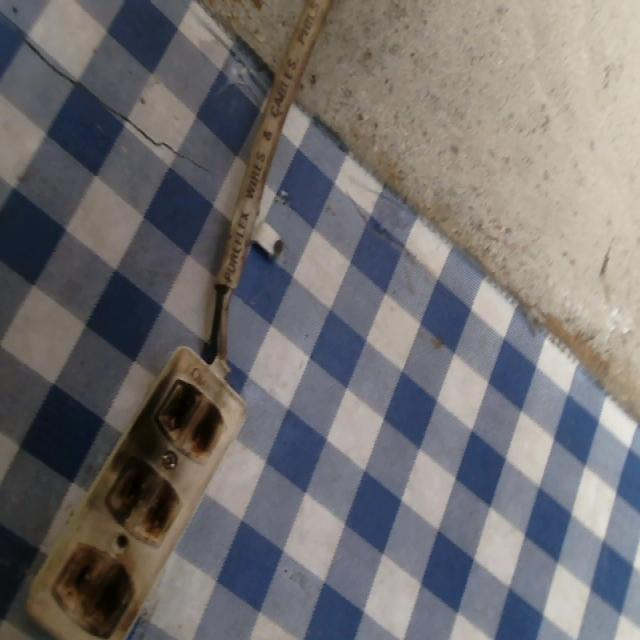-: (51, 539, 132, 629), (104, 452, 180, 544), (157, 372, 228, 457)
